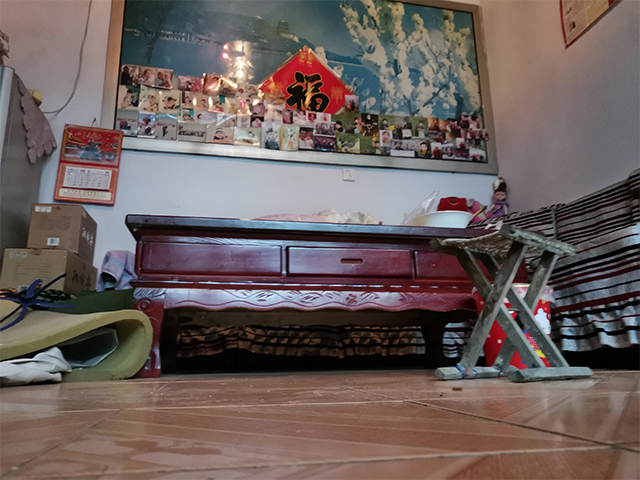sofa: (497, 167, 640, 370)
stool: (426, 219, 593, 385)
table: (123, 209, 533, 380)
trashcan: (470, 283, 559, 378)
